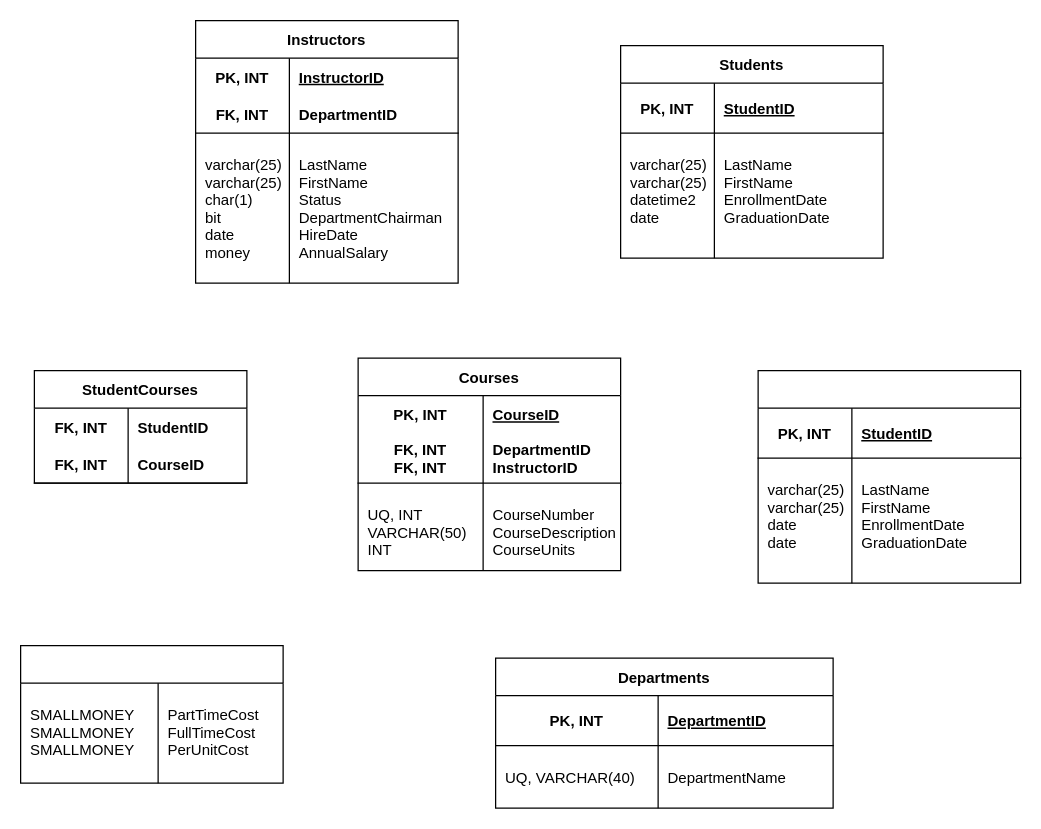
The diagram is 1041 pixels wide and 829 high, and some of its shapes have lost their labels. Each missing label, with the box of its shape:
GradStudents: (757, 369, 1021, 583)
Tuition: (19, 644, 283, 783)
